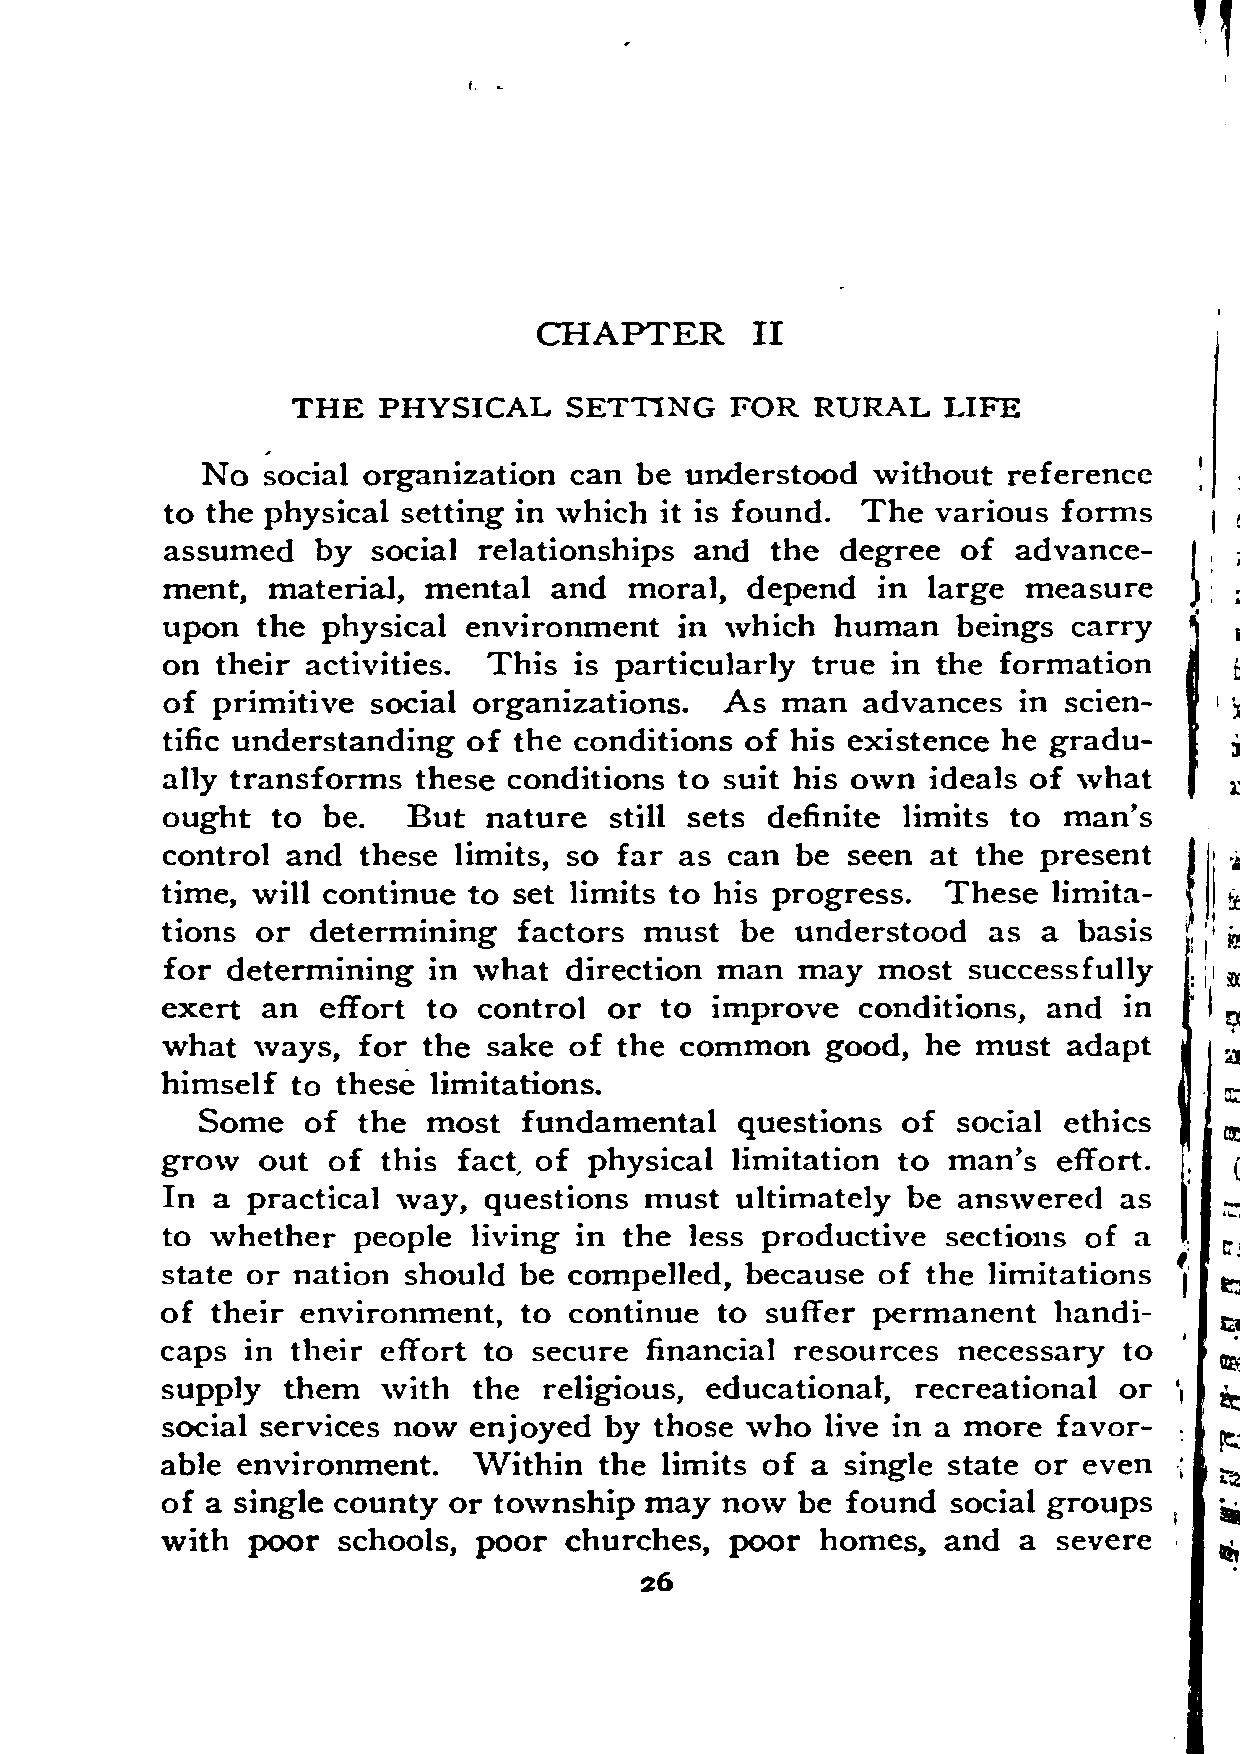chapter: (285, 318, 1023, 421)
content: (156, 458, 1157, 1561)
content_pagenumber: (633, 1566, 676, 1594)
